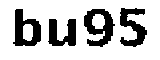5: (120, 4, 151, 53)
9: (80, 6, 116, 52)
b: (11, 6, 43, 49)
u: (43, 14, 80, 51)
